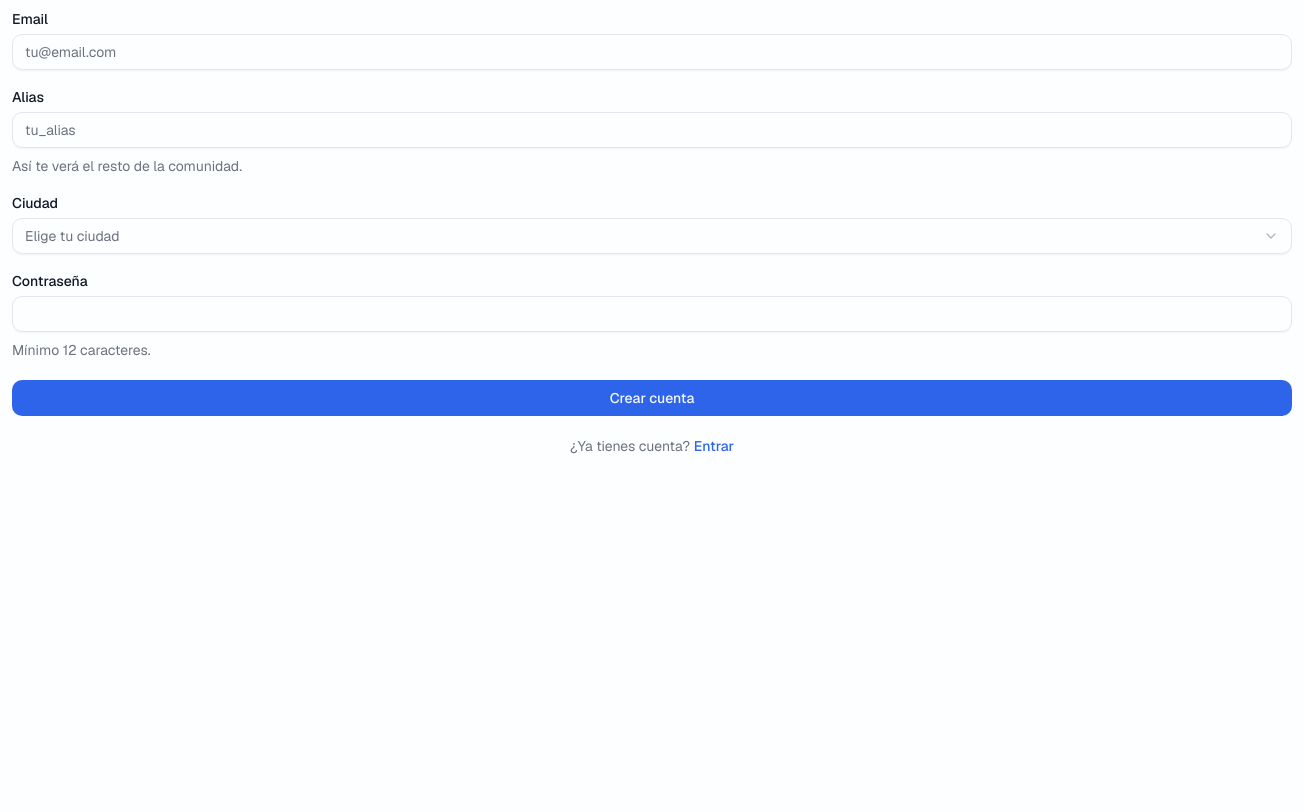
it: SignUpForm › Alias ya en uso muestra el aviso junto al campo alias
Step 1. Type "nueva@loop.test" into the field labelled "Email" → (652, 52), box [12,34,1292,70]
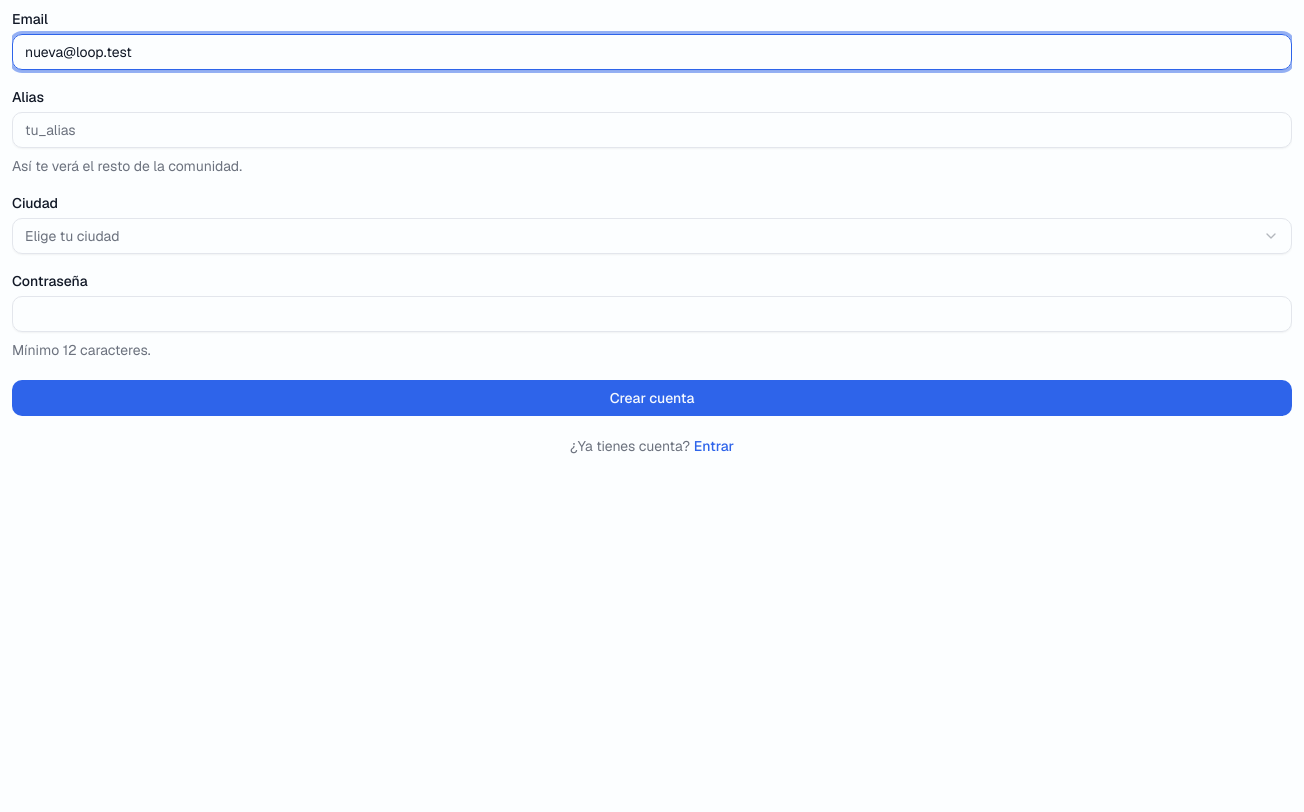
Step 2. Type "nueva_vecina" into the field labelled "Alias" → (652, 130), box [12,112,1292,148]
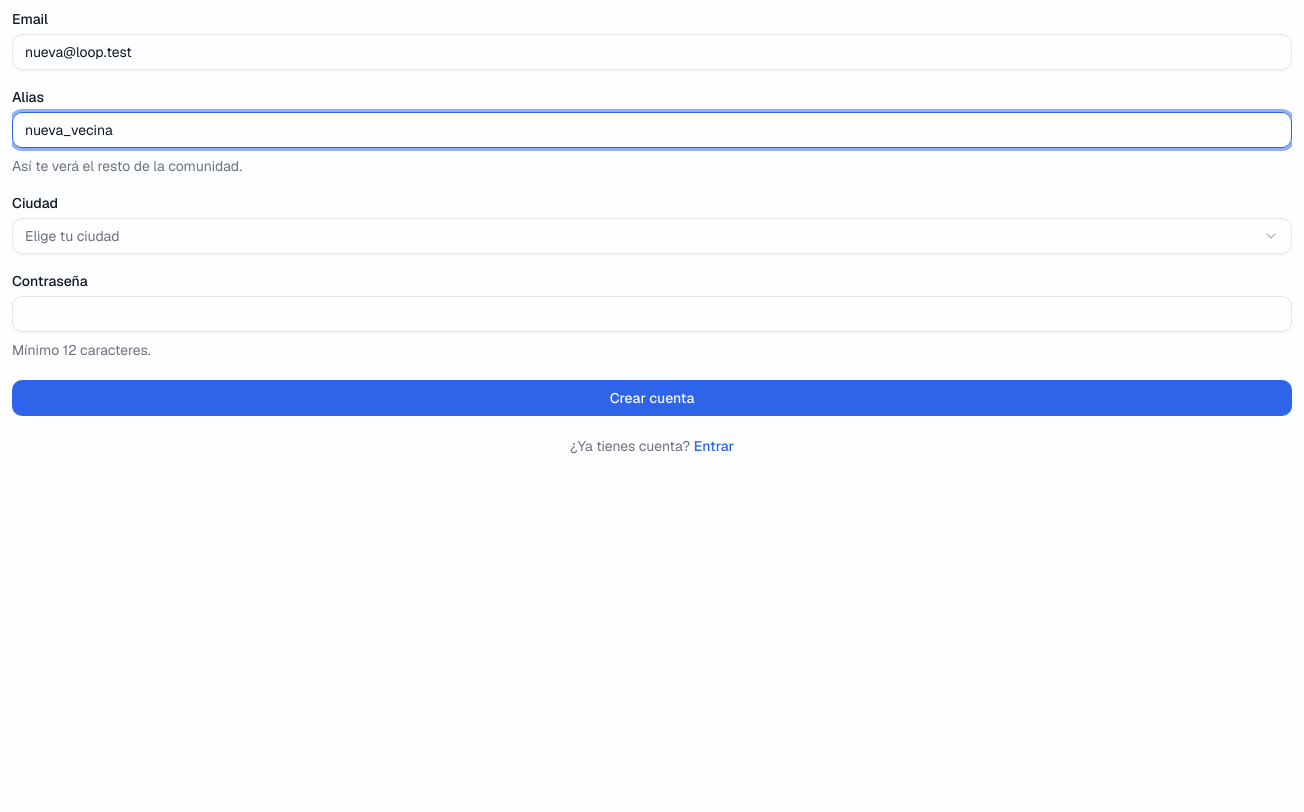
Step 3. Type "loopmarket123" into the password field labelled "Contraseña" → (652, 314), box [12,296,1292,332]
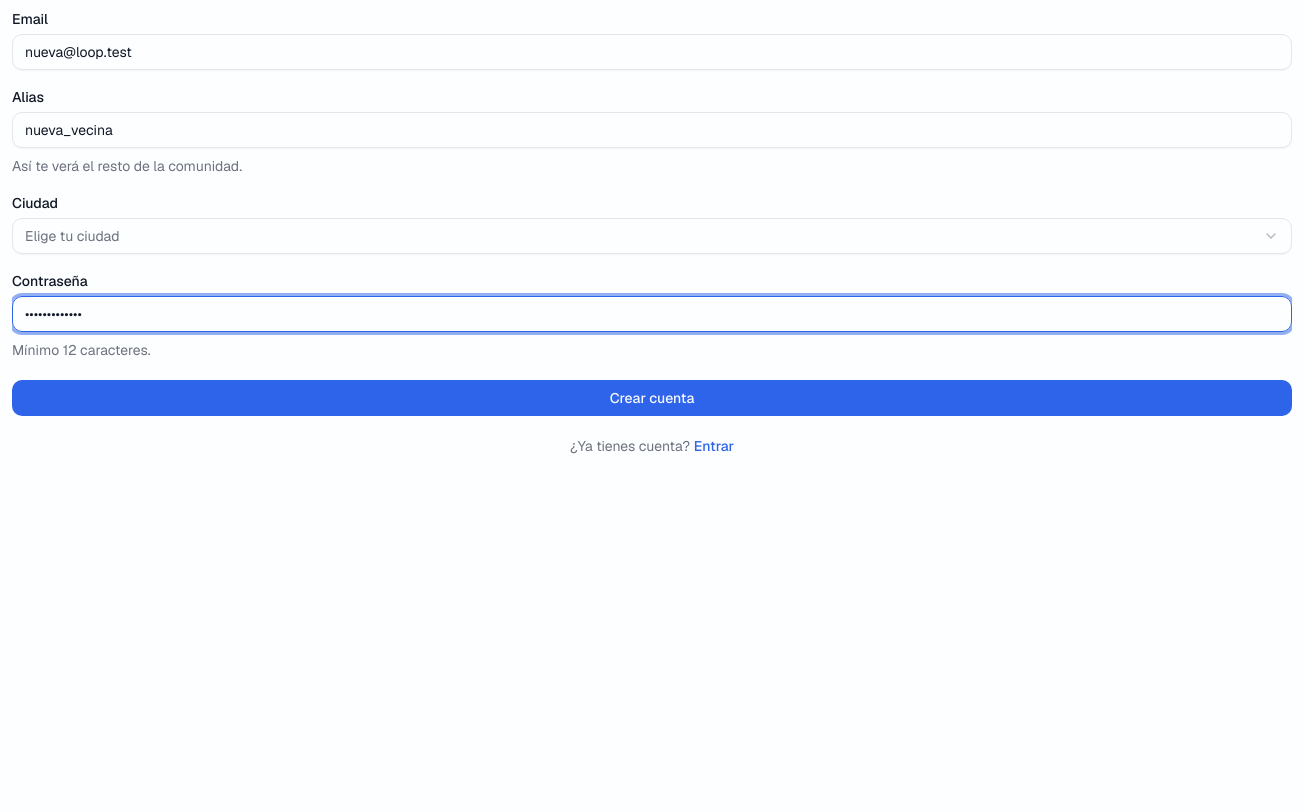
Step 4. Click the dropdown labelled "ciudad" → (72, 236), box [12,218,1292,254]
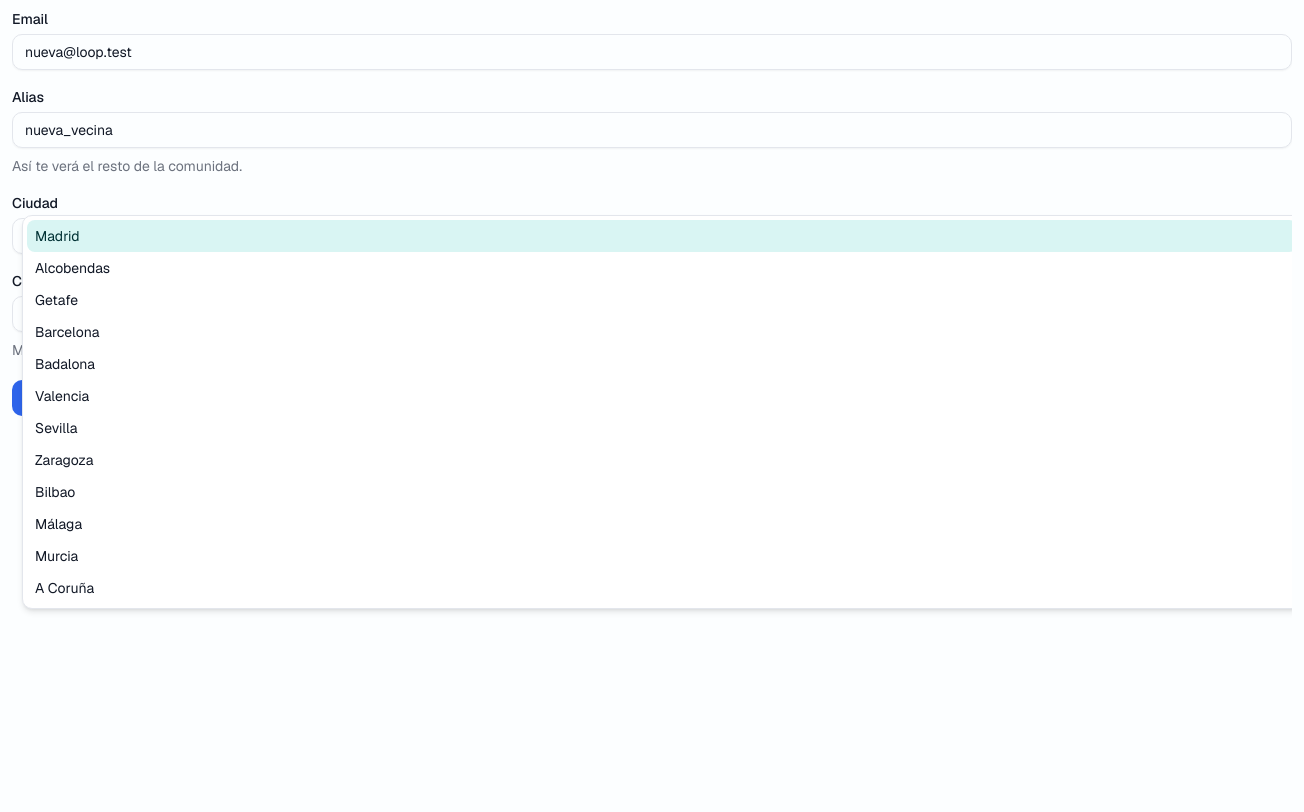
Step 5. Click the option "Madrid" → (57, 236), box [27,220,1292,252]
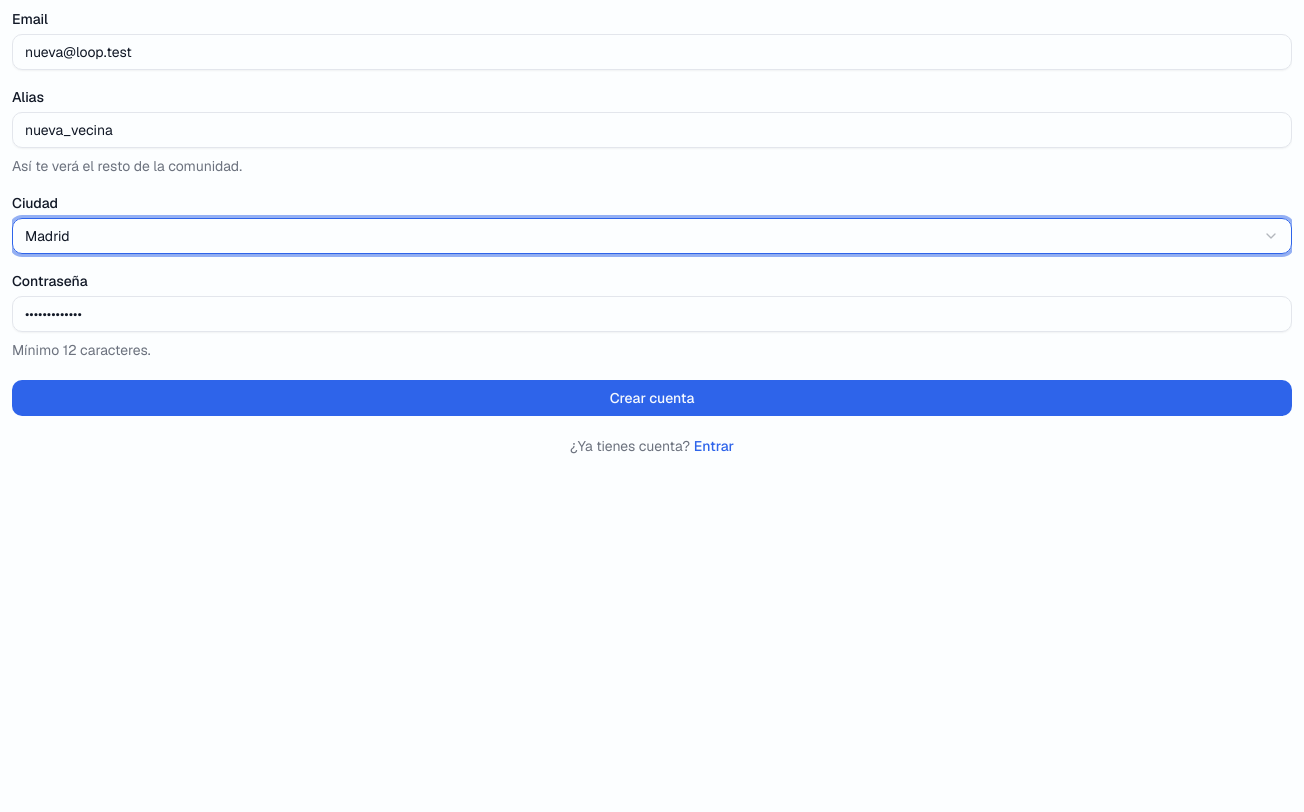
Step 6. Click the button "Crear cuenta" → (652, 398), box [12,380,1292,416]
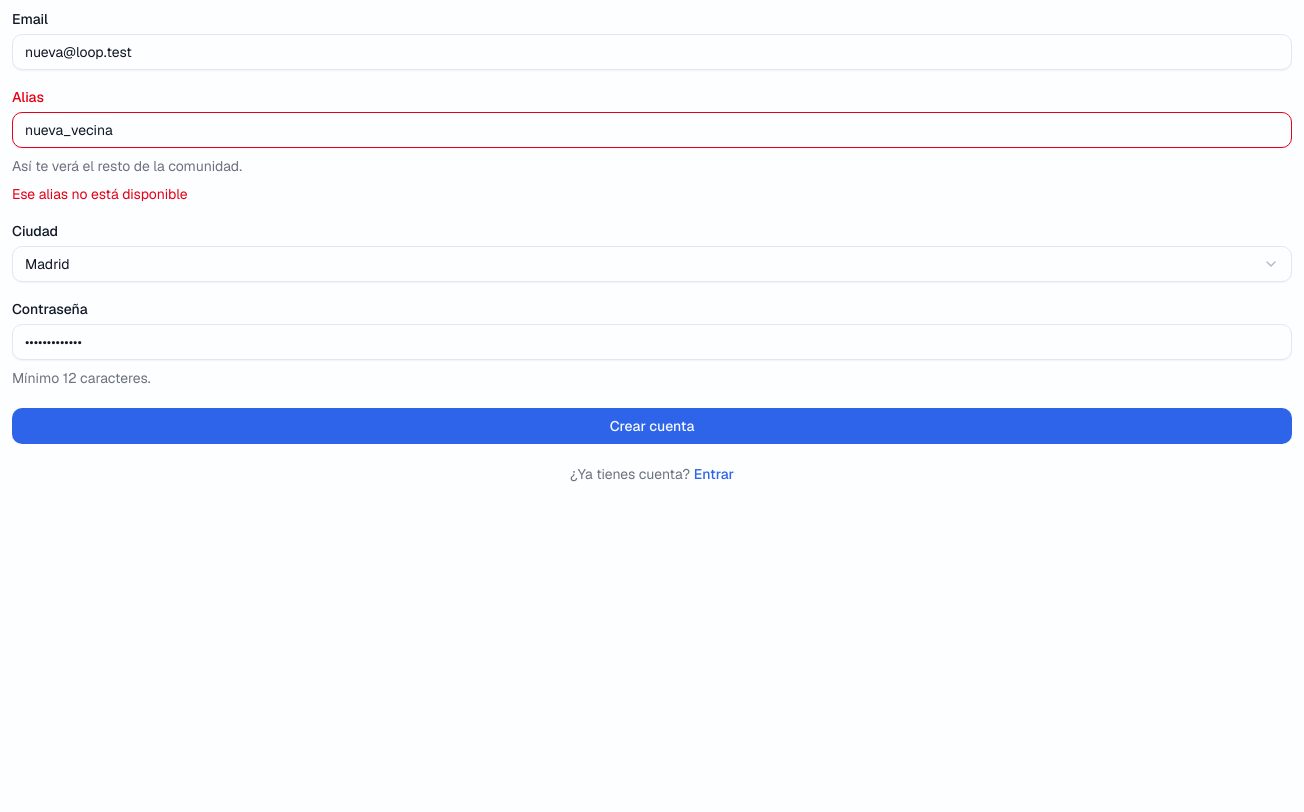
Result: the text "Ese alias no está disponible" is shown at [12,185,188,203]
